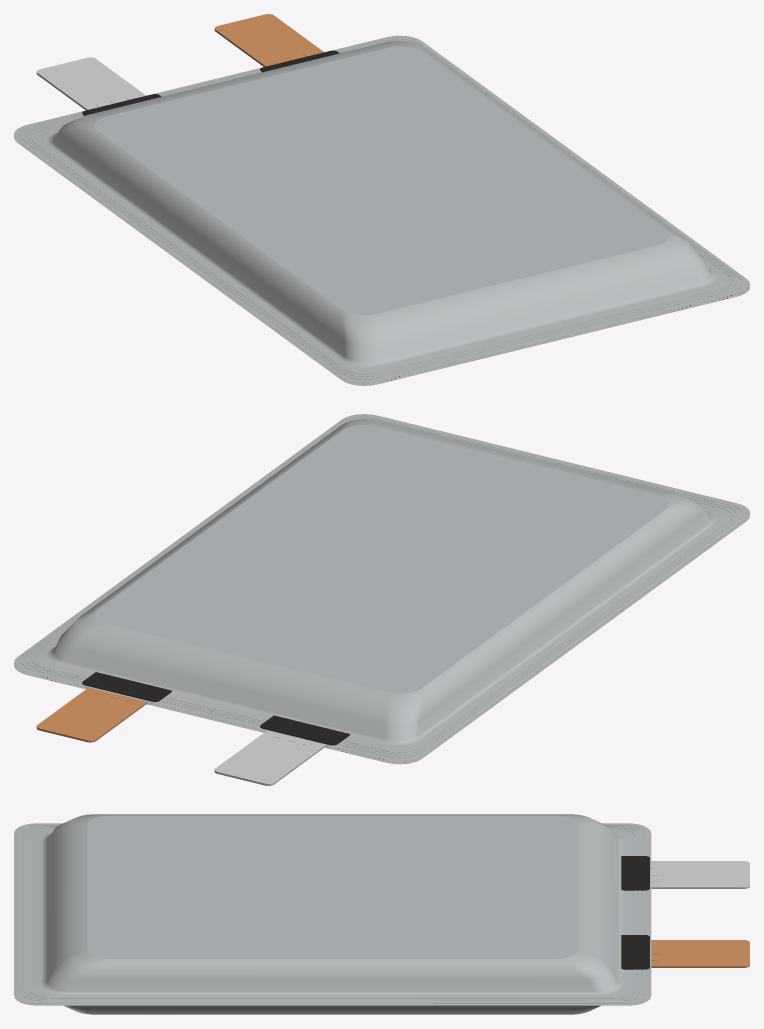
The model's file is gel-pouch.glb.
The picture shows the model from 3 angles, top to bottom: view 1: azimuth 30°, elevation 25°; view 2: azimuth 150°, elevation 25°; view 3: azimuth 270°, elevation 25°; orthographic projection. The views are drawn at different scales.
Parts seen in each view (by area): view 1: Pouch_front.005, Positive_tab.012, Negative_tab.012, Heat_seal_pressure_line.015, Pouch_back.005, Heat_seal_pressure_line.016, Heat_seal_pressure_line.017; view 2: Pouch_front.005, Negative_tab.012, Positive_tab.012, Heat_seal_pressure_line.015, Pouch_back.005, Tab_insulation.018, Tab_insulation.019, Heat_seal_pressure_line.016, Heat_seal_pressure_line.017; view 3: Pouch_front.005, Pouch_back.005, Negative_tab.012, Positive_tab.012, Heat_seal_pressure_line.015, Heat_seal_pressure_line.016, Heat_seal_pressure_line.017, Tab_insulation.018, Tab_insulation.019.
Boxes of the visible parts, x1=… form: Pouch_front.005: x1=14, y1=35, x2=749, y2=383; Positive_tab.012: x1=36, y1=57, x2=145, y2=110; Negative_tab.012: x1=214, y1=14, x2=323, y2=66; Heat_seal_pressure_line.015: x1=21, y1=38, x2=742, y2=379; Pouch_back.005: x1=14, y1=136, x2=749, y2=385; Heat_seal_pressure_line.016: x1=26, y1=117, x2=737, y2=376; Heat_seal_pressure_line.017: x1=31, y1=123, x2=732, y2=374; Pouch_front.005: x1=14, y1=414, x2=749, y2=762; Negative_tab.012: x1=36, y1=687, x2=147, y2=742; Positive_tab.012: x1=214, y1=731, x2=325, y2=785; Heat_seal_pressure_line.015: x1=21, y1=417, x2=742, y2=757; Pouch_back.005: x1=14, y1=514, x2=749, y2=764; Tab_insulation.018: x1=260, y1=715, x2=350, y2=747; Tab_insulation.019: x1=82, y1=672, x2=171, y2=703; Heat_seal_pressure_line.016: x1=26, y1=495, x2=737, y2=755; Heat_seal_pressure_line.017: x1=31, y1=501, x2=732, y2=752; Pouch_front.005: x1=14, y1=814, x2=651, y2=1003; Pouch_back.005: x1=14, y1=994, x2=651, y2=1014; Negative_tab.012: x1=651, y1=940, x2=749, y2=967; Positive_tab.012: x1=651, y1=861, x2=749, y2=888; Heat_seal_pressure_line.015: x1=20, y1=824, x2=645, y2=1000; Heat_seal_pressure_line.016: x1=24, y1=826, x2=640, y2=999; Heat_seal_pressure_line.017: x1=29, y1=827, x2=636, y2=998; Tab_insulation.018: x1=621, y1=856, x2=649, y2=890; Tab_insulation.019: x1=621, y1=935, x2=649, y2=969.
Bounding box in the file's own units: 0.06 × 0.00846 × 0.104.
